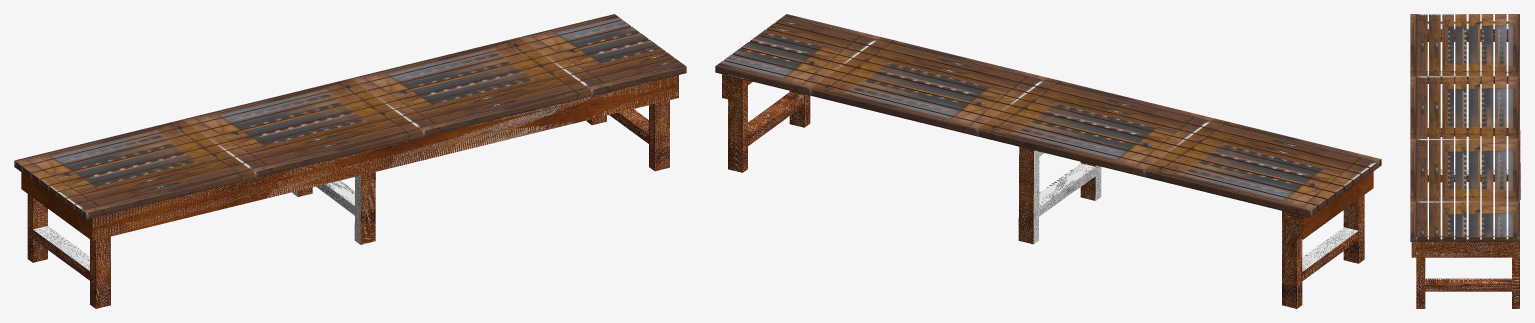
The picture shows the model from 3 angles, left to right: view 1: azimuth 30°, elevation 25°; view 2: azimuth 150°, elevation 25°; view 3: azimuth 270°, elevation 25°; orthographic projection. The views are drawn at different scales.
Parts seen in each view (by area): view 1: mesh16_mesh16-geometry, mesh7_mesh7-geometry, mesh2_mesh2-geometry, mesh8_mesh8-geometry, mesh3_mesh3-geometry, mesh5_mesh5-geometry, mesh1_mesh1-geometry, mesh6_mesh6-geometry, mesh4_mesh4-geometry; view 2: mesh16_mesh16-geometry, mesh1_mesh1-geometry, mesh7_mesh7-geometry, mesh4_mesh4-geometry, mesh5_mesh5-geometry, mesh6_mesh6-geometry, mesh8_mesh8-geometry, mesh2_mesh2-geometry, mesh3_mesh3-geometry; view 3: mesh16_mesh16-geometry, mesh7_mesh7-geometry, mesh2_mesh2-geometry, mesh5_mesh5-geometry, mesh1_mesh1-geometry, mesh3_mesh3-geometry, mesh4_mesh4-geometry, mesh6_mesh6-geometry, mesh8_mesh8-geometry.
Part boxes in pixels (<box>): mesh16_mesh16-geometry: <box>21,75,678,308</box>; mesh7_mesh7-geometry: <box>75,58,686,219</box>; mesh2_mesh2-geometry: <box>40,33,648,191</box>; mesh8_mesh8-geometry: <box>23,20,630,178</box>; mesh3_mesh3-geometry: <box>57,46,665,203</box>; mesh5_mesh5-geometry: <box>31,27,639,184</box>; mesh1_mesh1-geometry: <box>14,14,622,172</box>; mesh6_mesh6-geometry: <box>66,52,674,210</box>; mesh4_mesh4-geometry: <box>49,39,657,197</box>; mesh16_mesh16-geometry: <box>722,74,1373,308</box>; mesh1_mesh1-geometry: <box>715,61,1317,217</box>; mesh7_mesh7-geometry: <box>775,14,1381,173</box>; mesh4_mesh4-geometry: <box>750,35,1352,192</box>; mesh5_mesh5-geometry: <box>732,48,1334,204</box>; mesh6_mesh6-geometry: <box>767,23,1369,179</box>; mesh8_mesh8-geometry: <box>724,54,1326,211</box>; mesh2_mesh2-geometry: <box>741,42,1343,198</box>; mesh3_mesh3-geometry: <box>758,29,1360,185</box>; mesh16_mesh16-geometry: <box>1411,21,1520,308</box>; mesh7_mesh7-geometry: <box>1410,14,1427,241</box>; mesh2_mesh2-geometry: <box>1468,14,1480,241</box>; mesh5_mesh5-geometry: <box>1481,14,1493,241</box>; mesh1_mesh1-geometry: <box>1508,14,1519,241</box>; mesh3_mesh3-geometry: <box>1442,14,1453,241</box>; mesh4_mesh4-geometry: <box>1455,14,1466,241</box>; mesh6_mesh6-geometry: <box>1429,14,1440,241</box>; mesh8_mesh8-geometry: <box>1495,14,1506,241</box>.
Size of the model in its own units: 0.9636 by 0.1578 by 0.2019.
